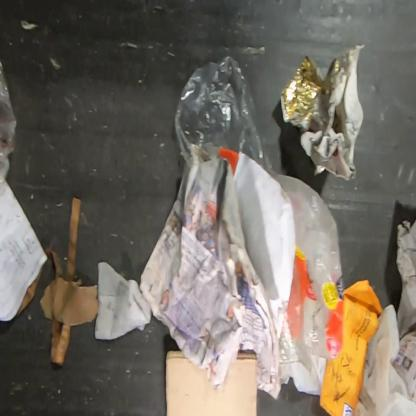cardboard: (166, 351, 258, 416)
soft_plastic: (173, 54, 345, 361), (0, 50, 18, 190)
